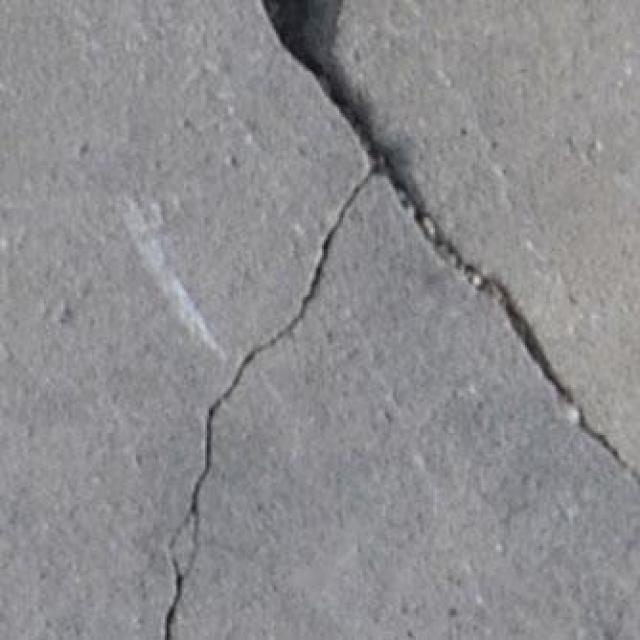multi-branched crack: (161, 0, 638, 638)
